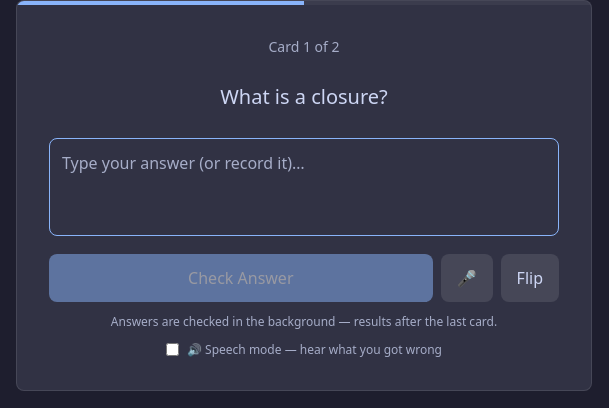
ReviewSession › flip saves a skipped attempt without revealing the answer
The width and height of the screenshot is (609, 408).
Expected: the text "What is a closure?" is shown, [220,83,388,110]
Click the button "Flip" at (530,278), box [501,254,559,302]
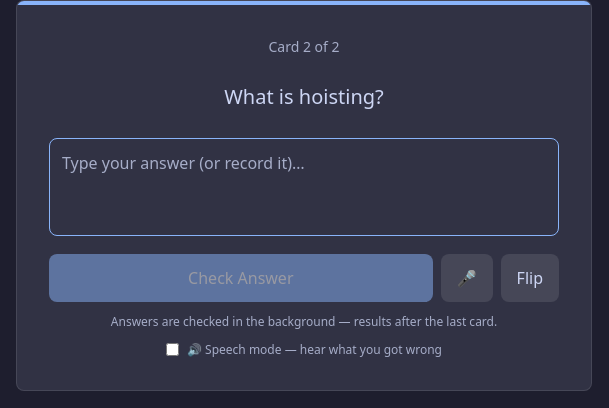
Result: the text "What is hoisting?" is shown at [224,83,384,110]
